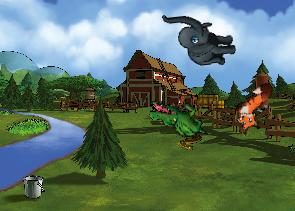crocodile: (148, 100, 208, 137)
elephant: (162, 7, 237, 70)
fox: (225, 79, 287, 138)
